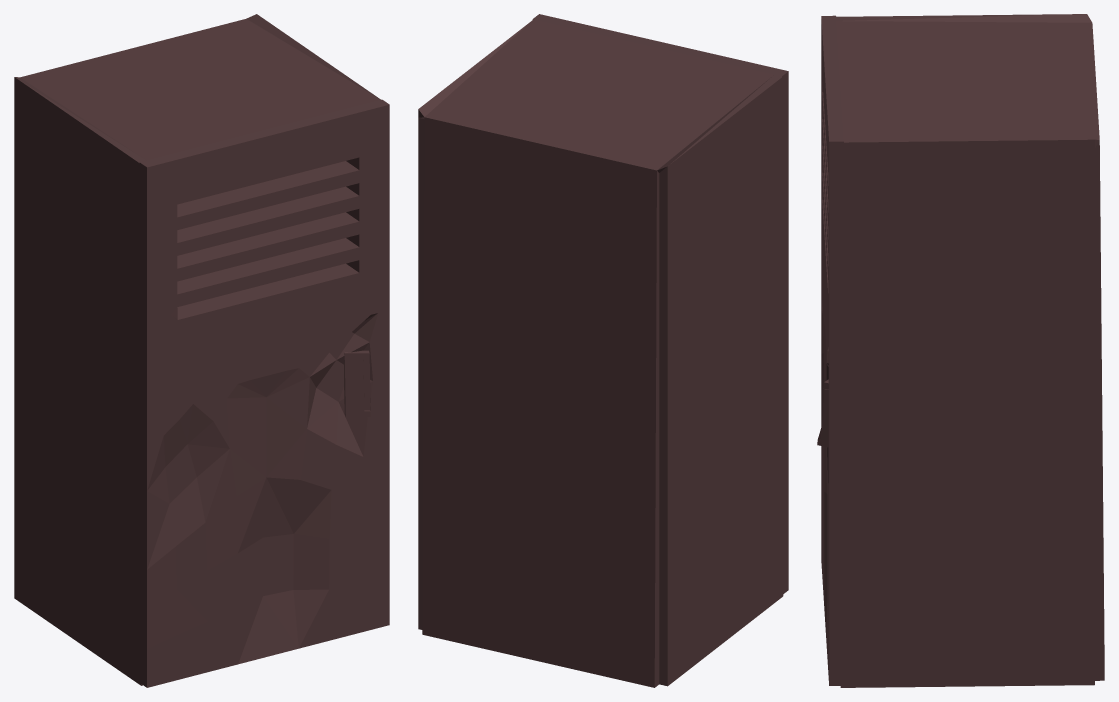
Rendered from sm_locker.fbx.
The picture shows the model from 3 angles, left to right: view 1: azimuth 30°, elevation 25°; view 2: azimuth 150°, elevation 25°; view 3: azimuth 270°, elevation 25°; orthographic projection. The views are drawn at different scales.
Visible parts, largest first — view 1: sm_closedlocker; view 2: sm_closedlocker; view 3: sm_closedlocker.
Boxes of the visible parts, left/top/right/bottom form: sm_closedlocker: left=14, top=14, right=389, bottom=687; sm_closedlocker: left=418, top=14, right=788, bottom=687; sm_closedlocker: left=817, top=14, right=1104, bottom=687.
Bounding box in the file's own units: 90.41 × 179 × 85.4.
